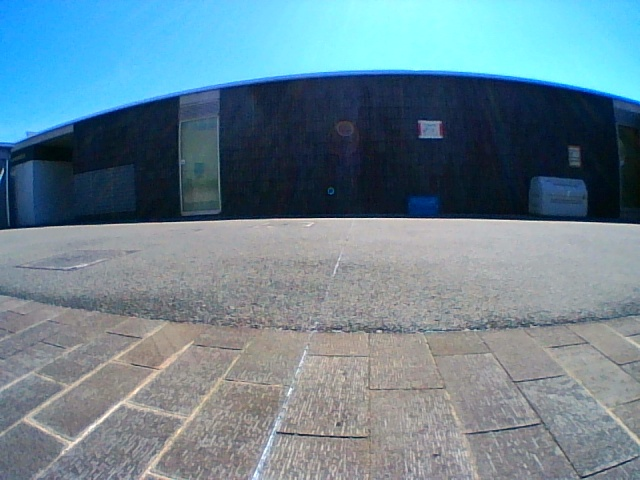blue_box: (409, 197, 438, 215)
